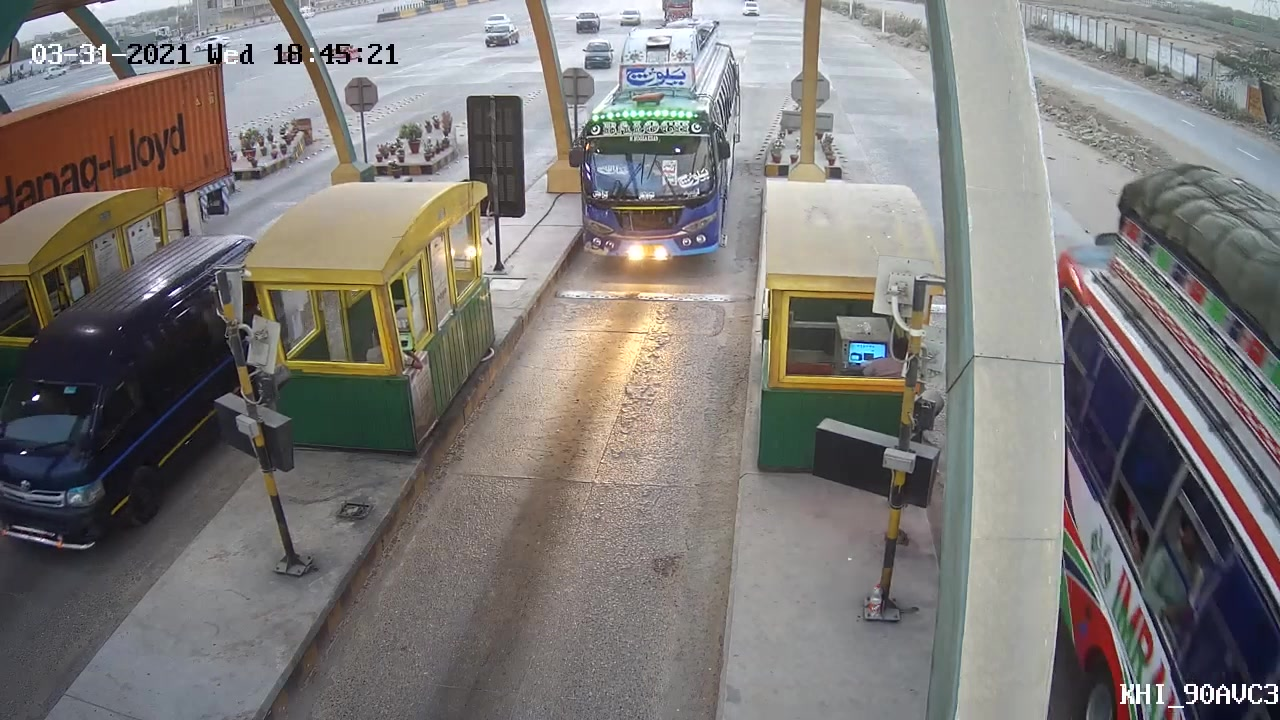F3: (555, 18, 745, 282)
